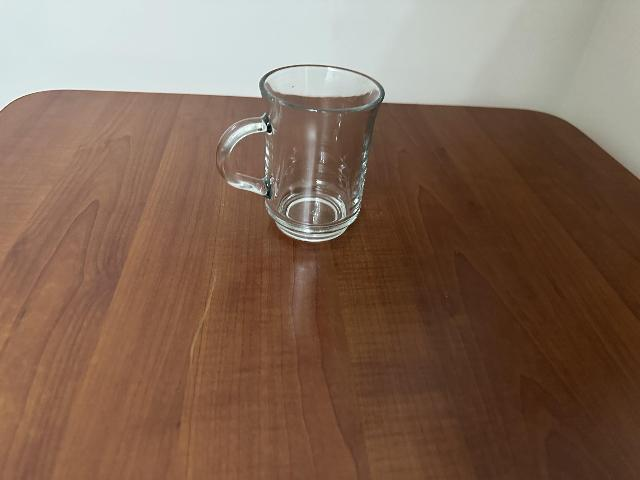Cam: (216, 63, 380, 242)
